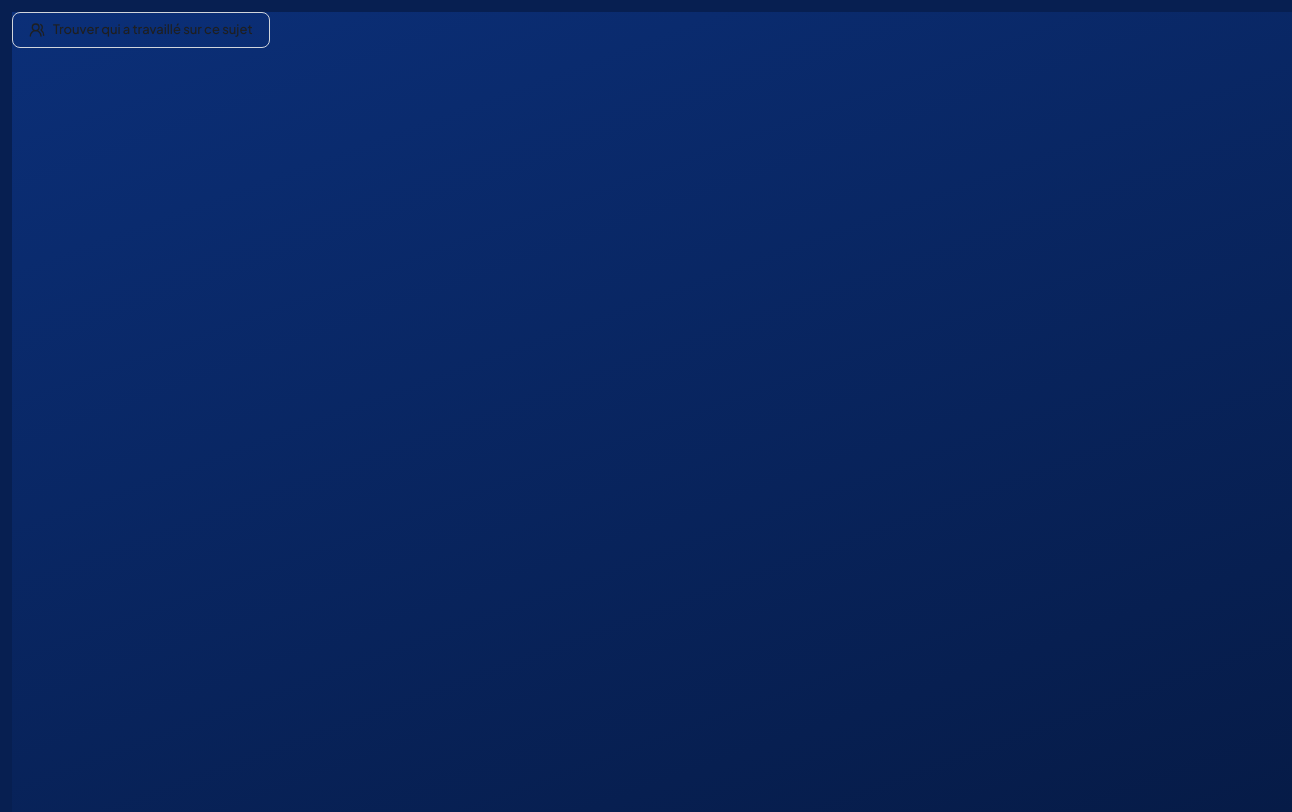
Test case: WorkMatchPanel › dit quand le résultat vient de la recherche seule, sans l'assistant
Click the button "Trouver qui a travaillé sur ce sujet": (141, 30) [12,12,270,48]
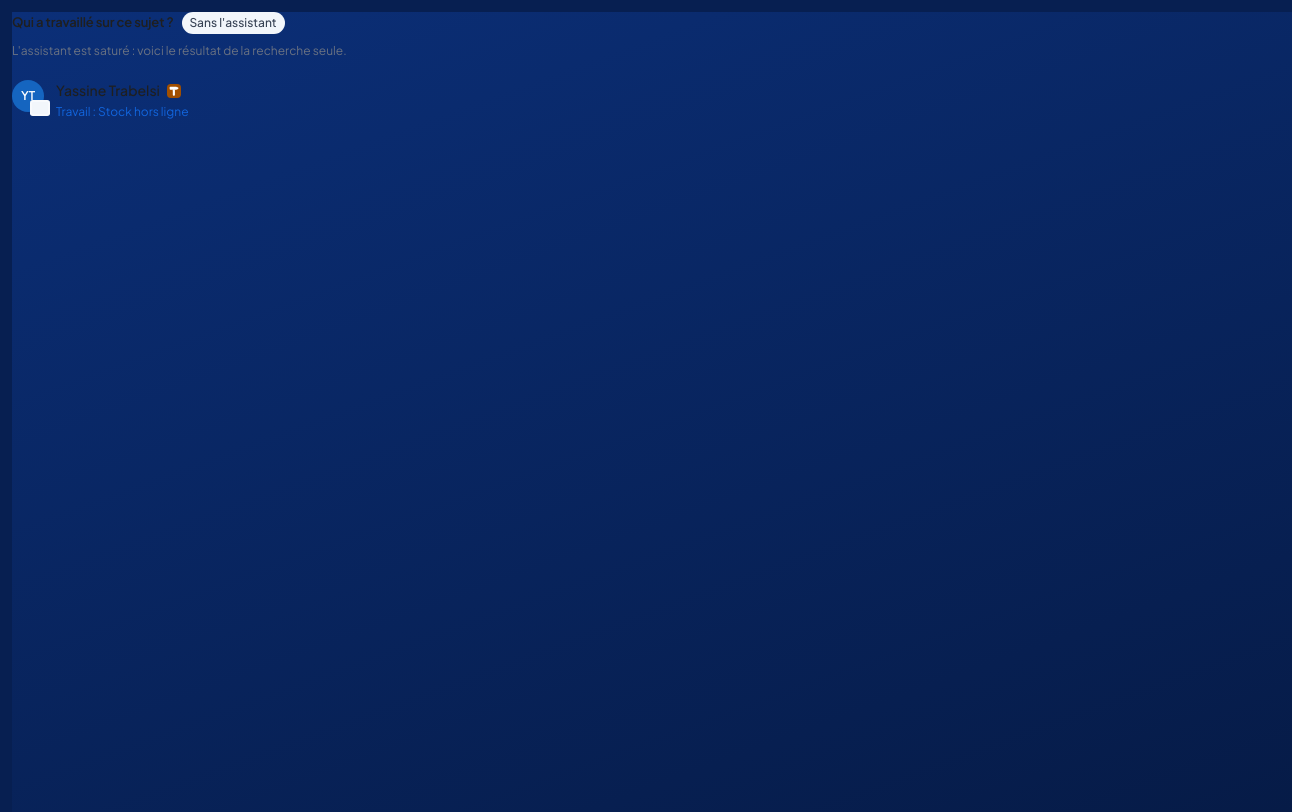
Expected: the text "Sans l'assistant" is shown, [182,12,285,34]
Expected: the text "L'assistant est saturé" is shown, [12,43,347,58]
